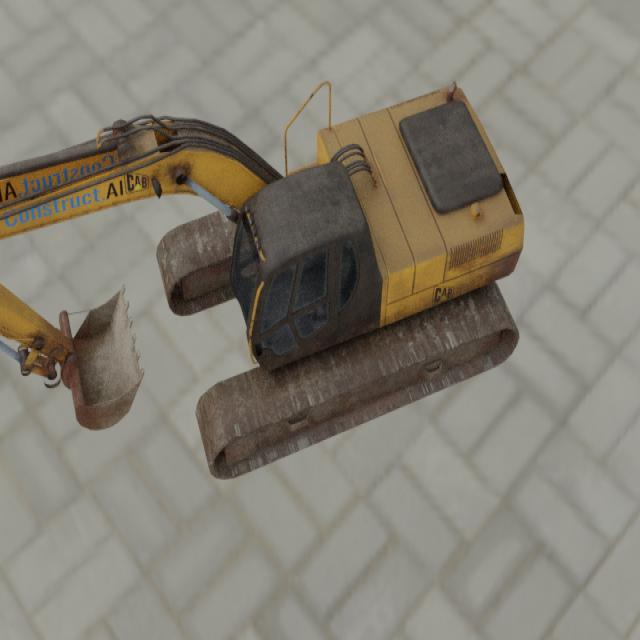excavator: (0, 80, 525, 480)
